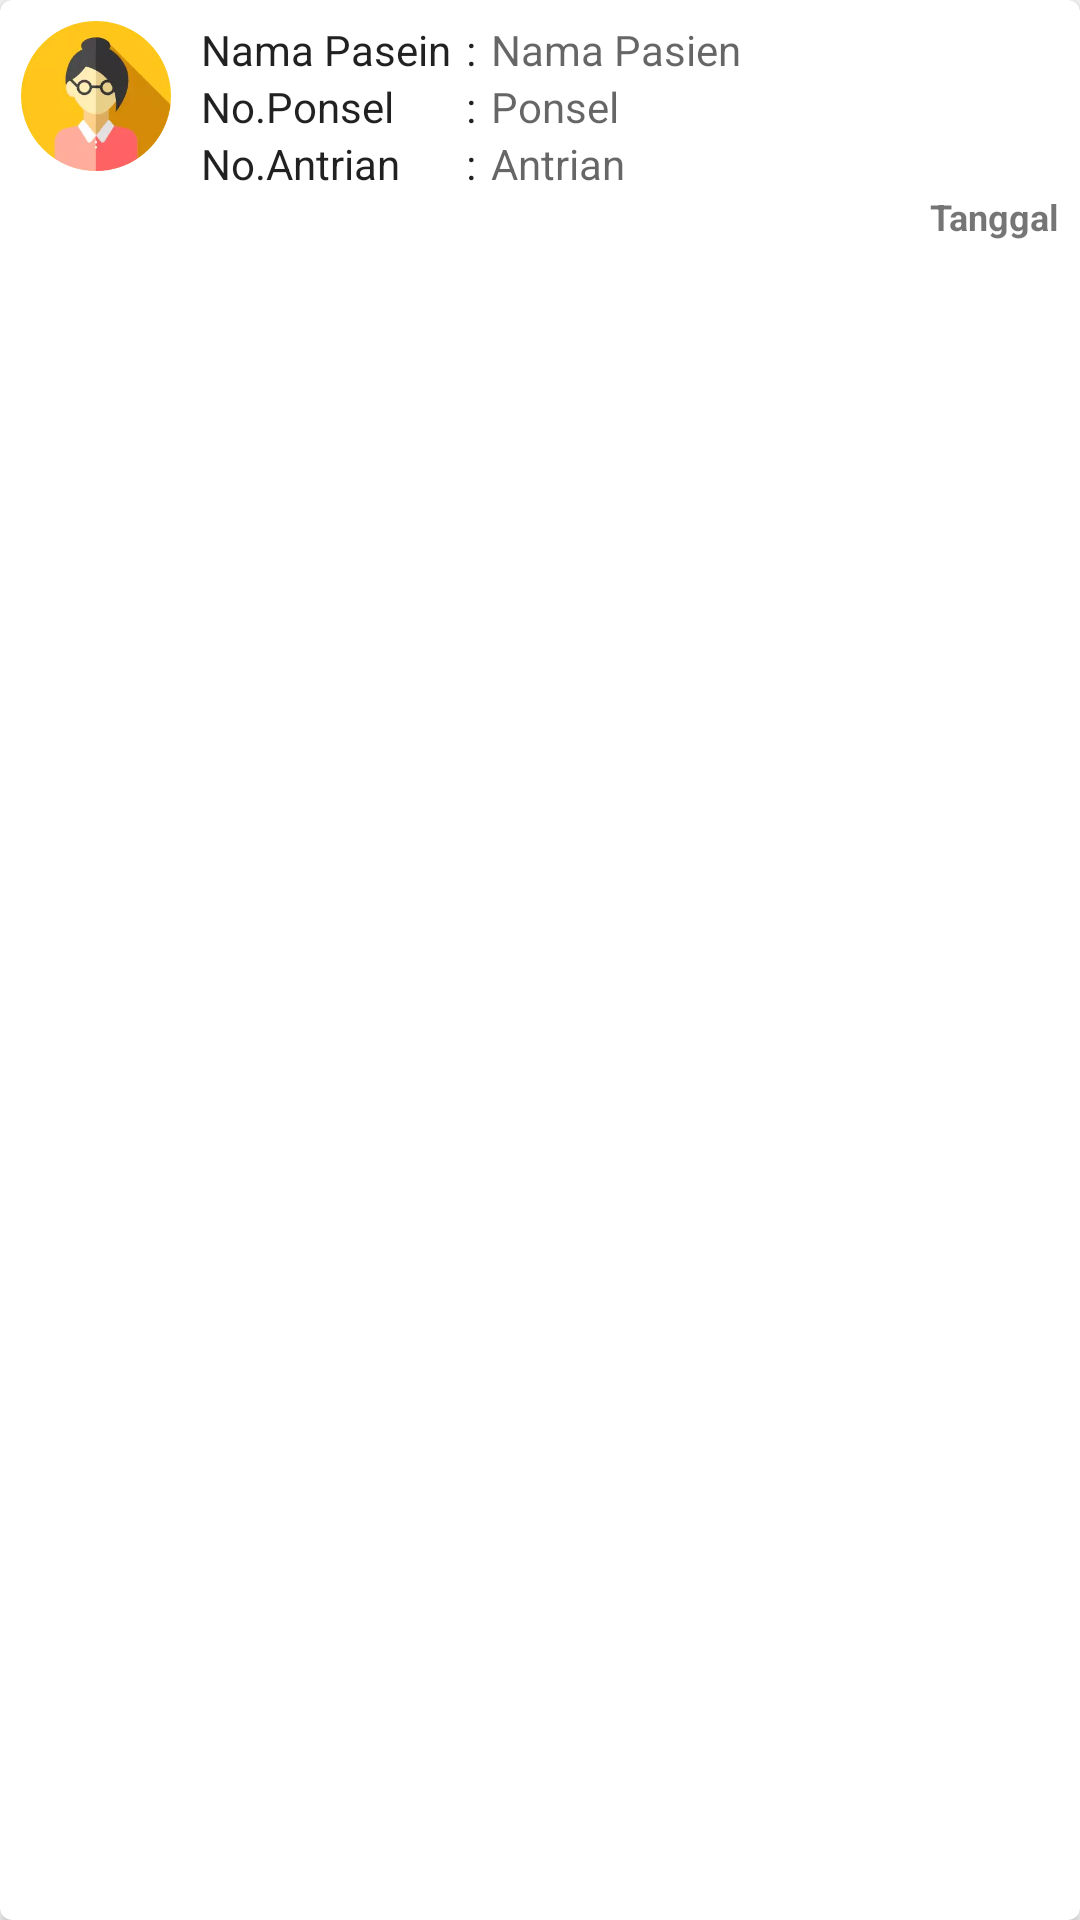

Screen size 1080px x 1920px. Icon name, then its center in pixels as (x,y):
profile: (96,96)
